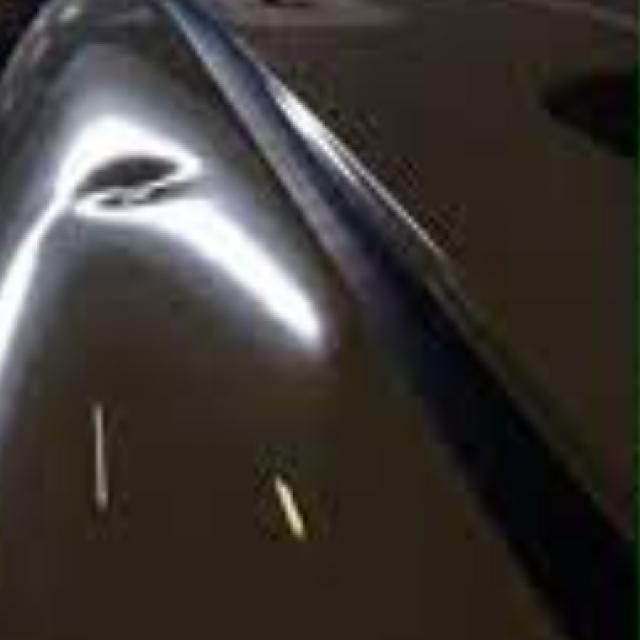dents: (72, 148, 191, 208)
